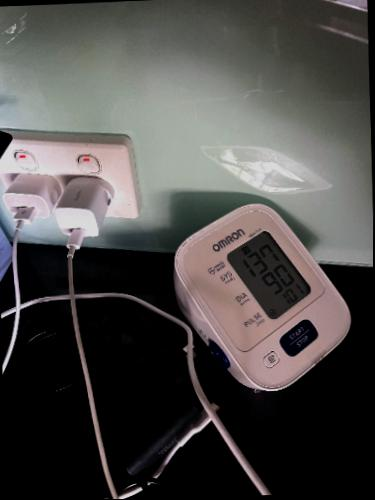bpm: (222, 224, 314, 323)
